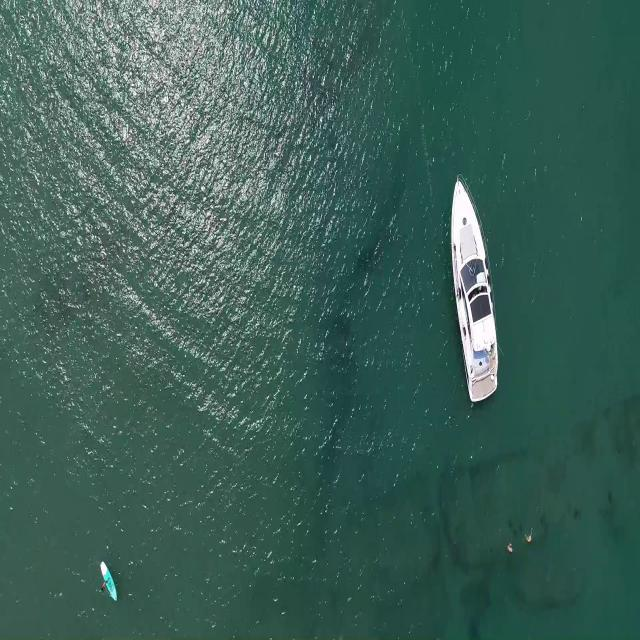boat: (448, 171, 503, 407)
person: (523, 530, 536, 544), (99, 577, 111, 592), (506, 542, 514, 552)
surfboard: (101, 558, 117, 608)
